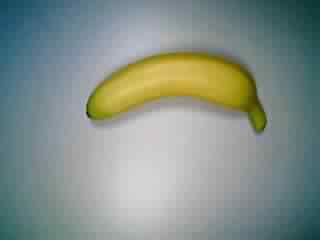banana: (80, 50, 269, 137)
